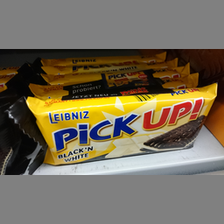chocolate: (25, 91, 215, 161)
